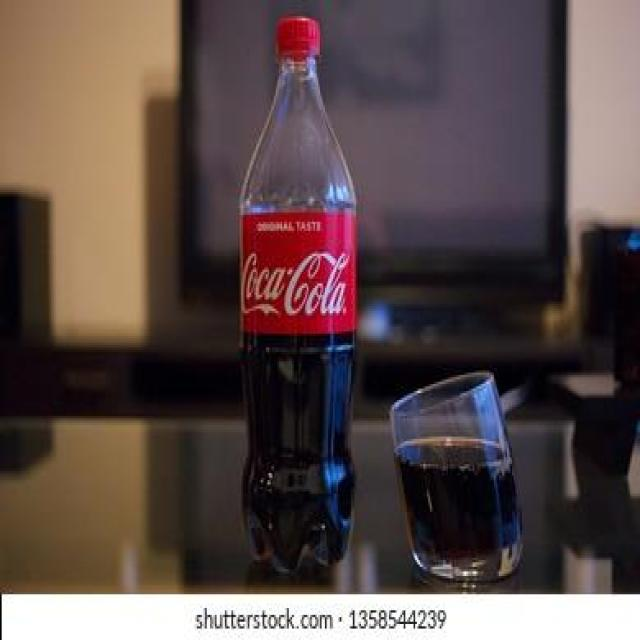coca-cola: (232, 11, 364, 576)
